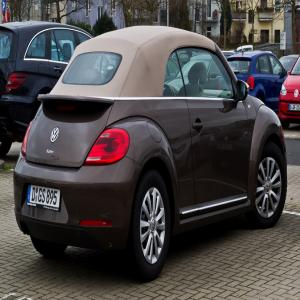Vehicle-registration-plate: (27, 186, 62, 212), (290, 105, 300, 111)
